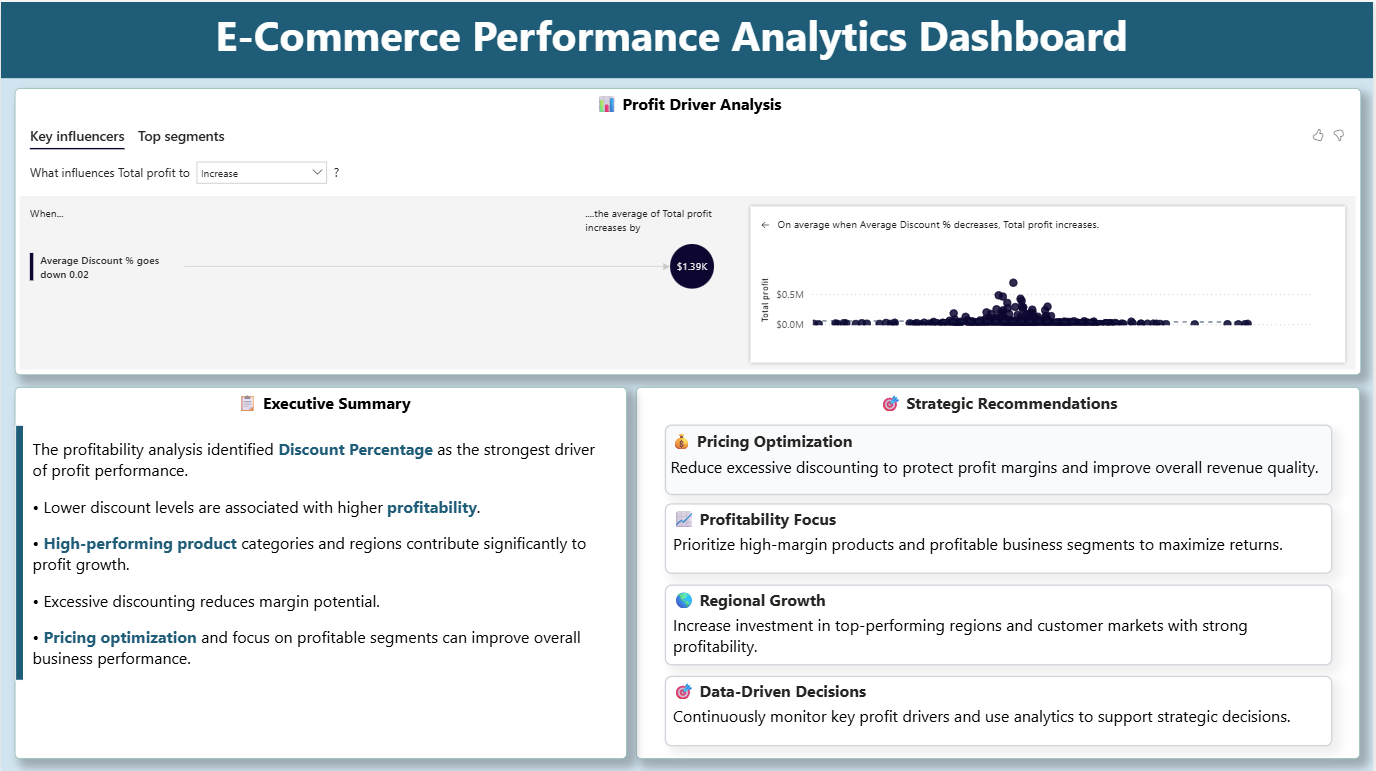

What the dashboard file says about the page in this screenshot:
{"tool":"powerbi","page":{"name":"Strategic Insights","canvas":[1600,900],"ordinal":4},"visuals":[{"type":"keyDriversVisual","title":"📊 Profit Driver Analysis","fields":{"Target":["Measure table.Total profit"],"ExplainBy":["Region.Geographic Region","Sales Channel.Sales Channel","Product Category.Products Category","Product Class.Product Class","Measure table.Average Discount %"]},"box":[15.4,101.2,1569.5,334.5],"z":0},{"type":"shape","box":[0,0,1600,89],"z":1000,"group":"g1"},{"type":"textbox","title":"🎯 Strategic Recommendations","box":[741,449.4,843.9,434],"z":1000},{"type":"group","id":"g1","title":"Group 4","box":[0,0,1600,89.2],"z":2000},{"type":"textbox","box":[245.3,0,1111.5,89.2],"z":3000,"group":"g1"},{"type":"textbox","title":"📋 Executive Summary","box":[15.4,449.4,713.6,434],"z":3000},{"type":"textbox","title":"💰 Pricing Optimization","box":[773.6,492.3,778.7,82],"z":4000},{"type":"textbox","title":"📈 Profitability Focus","box":[773.6,584.9,778.7,82.3],"z":5000},{"type":"textbox","title":"🌎 Regional Growth","box":[773.6,679.2,778,94],"z":6000},{"type":"textbox","title":"🎯 Data-Driven Decisions","box":[773.6,785.6,778.7,82.3],"z":7000},{"type":"shape","box":[15.4,492.3,12,300.2],"z":8000}]}

Visuals, with their boxes in screenshot pixels (x1, y1, x2, y2), scaled from the page's 1600x900 canvas onto the 1376x771 screenshot:
"📊 Profit Driver Analysis" keyDriversVisual: [left=13, top=87, right=1363, bottom=373]
shape: [left=0, top=0, right=1375, bottom=76]
"🎯 Strategic Recommendations" textbox: [left=637, top=385, right=1363, bottom=757]
"Group 4" group: [left=0, top=0, right=1375, bottom=76]
textbox: [left=211, top=0, right=1167, bottom=76]
"📋 Executive Summary" textbox: [left=13, top=385, right=627, bottom=757]
"💰 Pricing Optimization" textbox: [left=665, top=422, right=1335, bottom=492]
"📈 Profitability Focus" textbox: [left=665, top=501, right=1335, bottom=572]
"🌎 Regional Growth" textbox: [left=665, top=582, right=1334, bottom=662]
"🎯 Data-Driven Decisions" textbox: [left=665, top=673, right=1335, bottom=744]
shape: [left=13, top=422, right=24, bottom=679]
